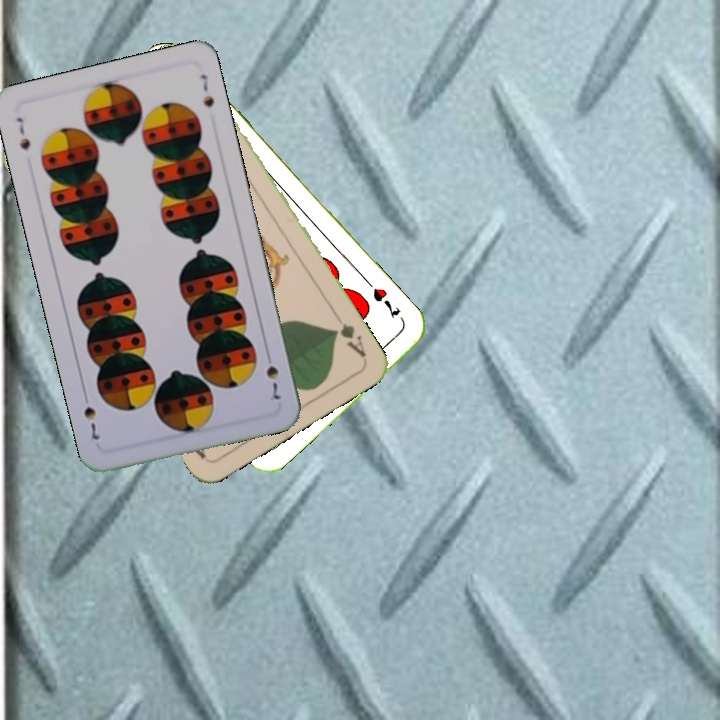GA: (328, 318, 369, 360)
H7: (368, 284, 403, 320)
S7: (262, 347, 283, 402), (12, 113, 33, 154)
